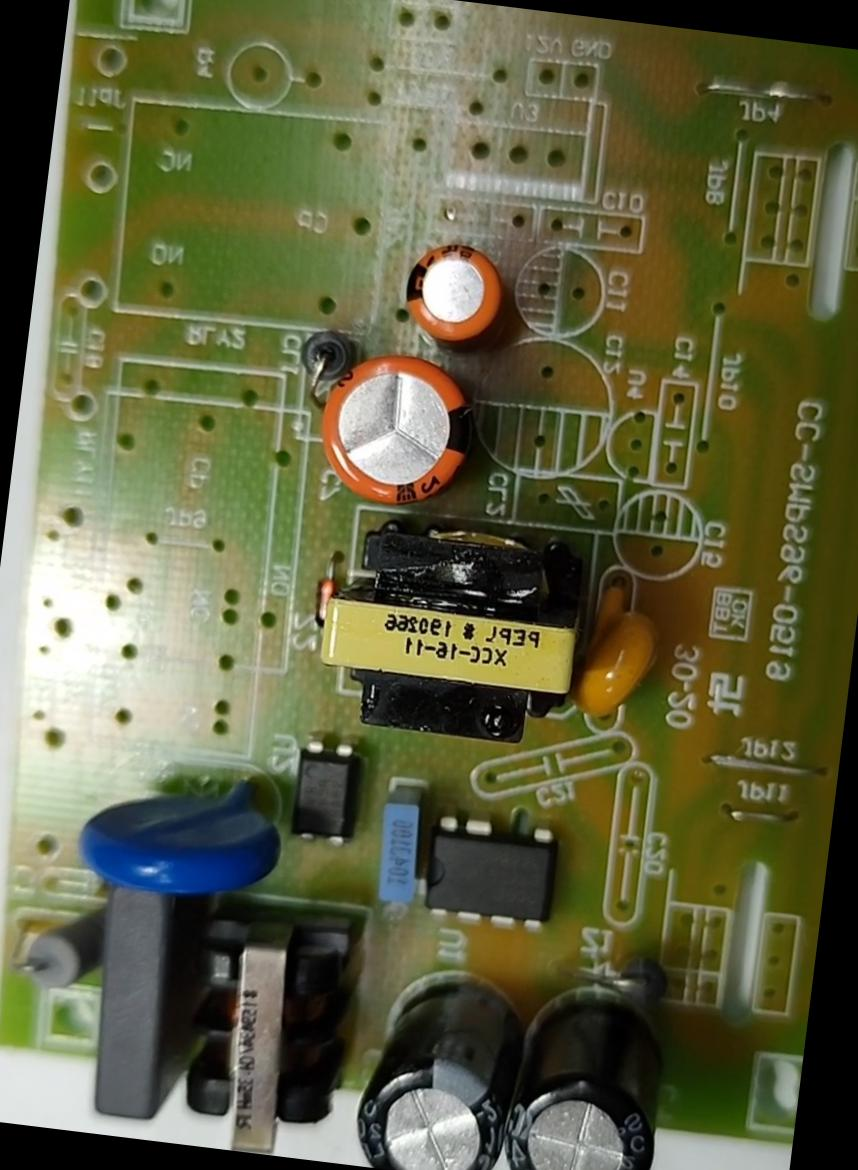Cap1: (302, 335, 488, 521)
Cap2: (390, 226, 522, 358)
Cap3: (342, 955, 543, 1169)
Cap4: (491, 973, 686, 1169)
MOSFET: (406, 798, 576, 944)
Mov: (62, 751, 300, 918)
Resistor: (8, 897, 118, 1003)
Transformer: (300, 487, 612, 768), (165, 876, 376, 1163)
